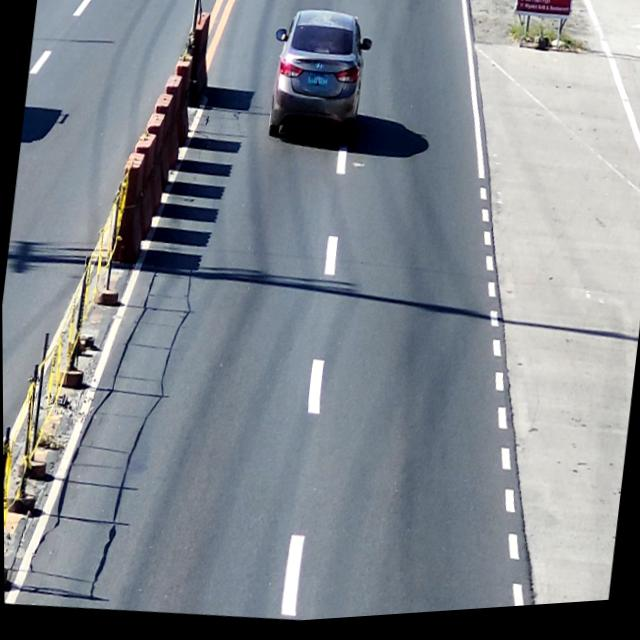Car: (264, 8, 371, 156)
License-Plate: (307, 76, 329, 90)
